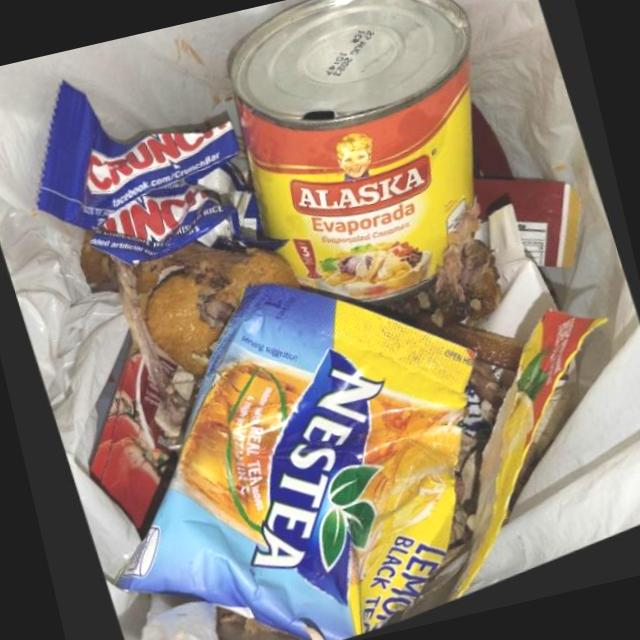bao_bi_thuc_pham: (35, 84, 286, 269), (87, 332, 179, 536)
goi_nhua_nho: (114, 291, 477, 640), (448, 320, 611, 610)
nhom: (228, 0, 478, 310)
thuc_an_thua: (135, 246, 301, 385), (101, 259, 189, 441), (418, 213, 503, 336)
